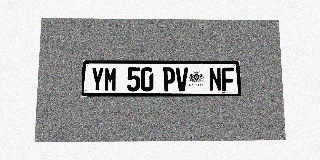0: (140, 67, 153, 91)
5: (127, 67, 140, 91)
F: (221, 67, 235, 91)
M: (104, 67, 117, 91)
N: (209, 67, 222, 91)
P: (162, 67, 175, 91)
V: (175, 67, 188, 91)
Y: (90, 67, 104, 91)
